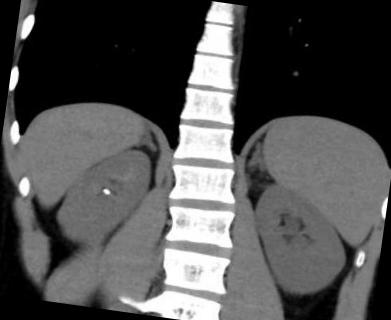Tas_Var: (100, 184, 114, 197)
